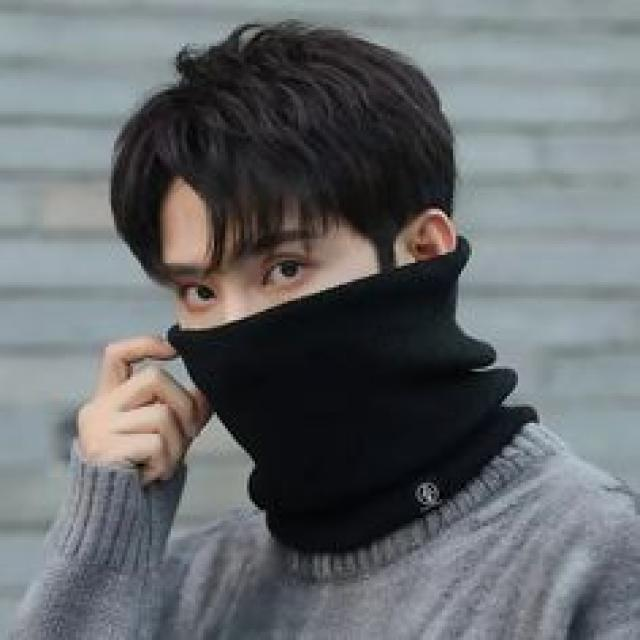8_ropa_rostro: (179, 274, 476, 474)
